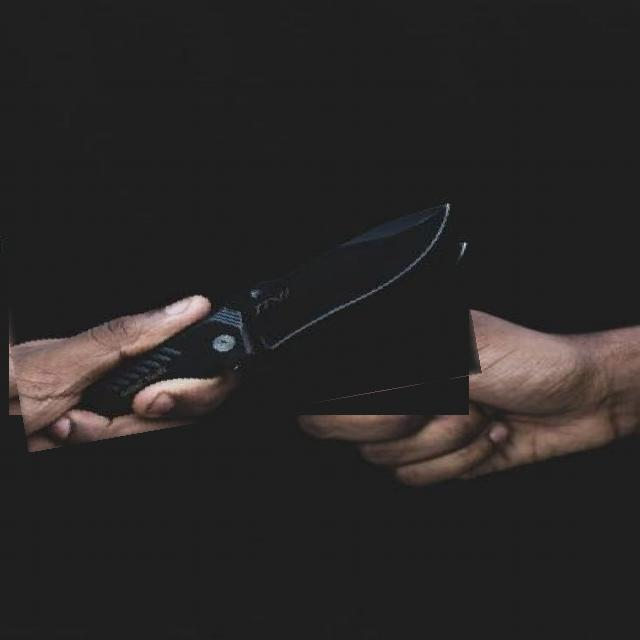knife: (2, 206, 476, 434)
